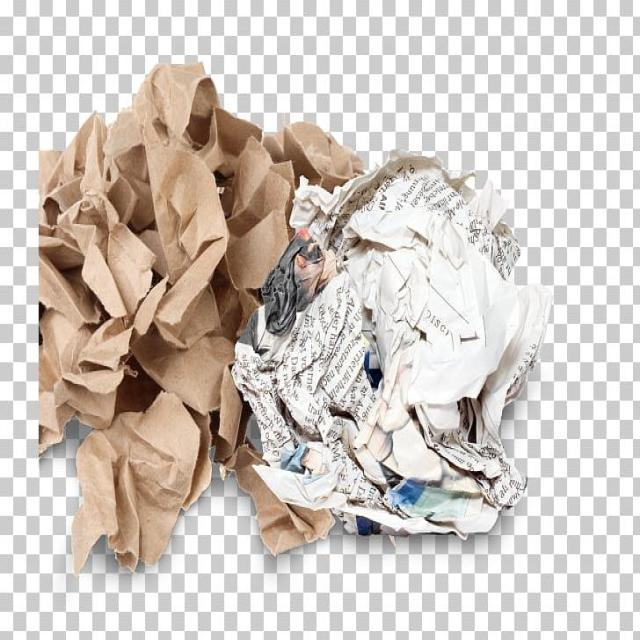PaperCardboard: (38, 71, 531, 574)
